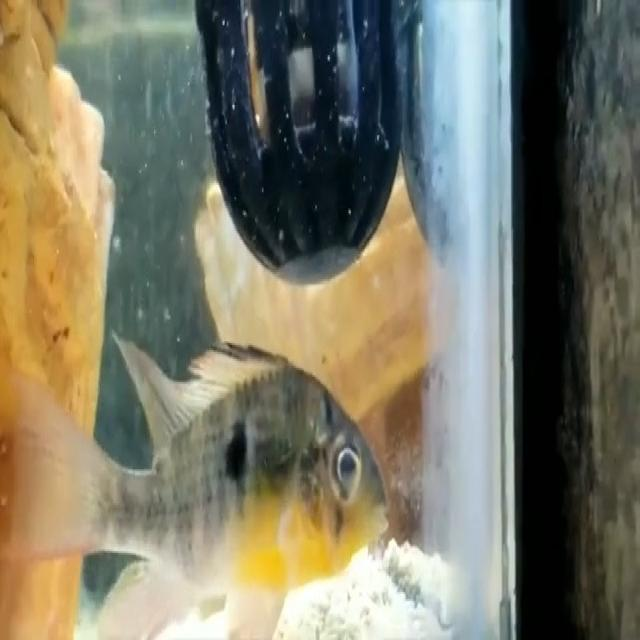fish: (18, 330, 396, 640)
